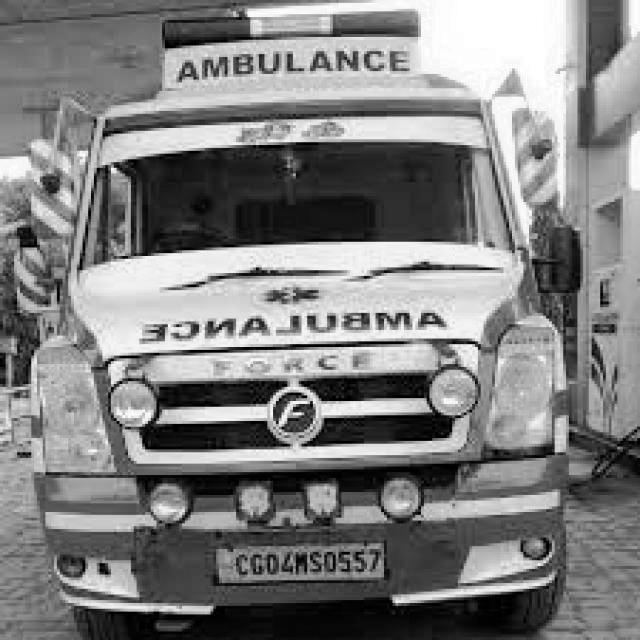LCV: (26, 9, 583, 613)
